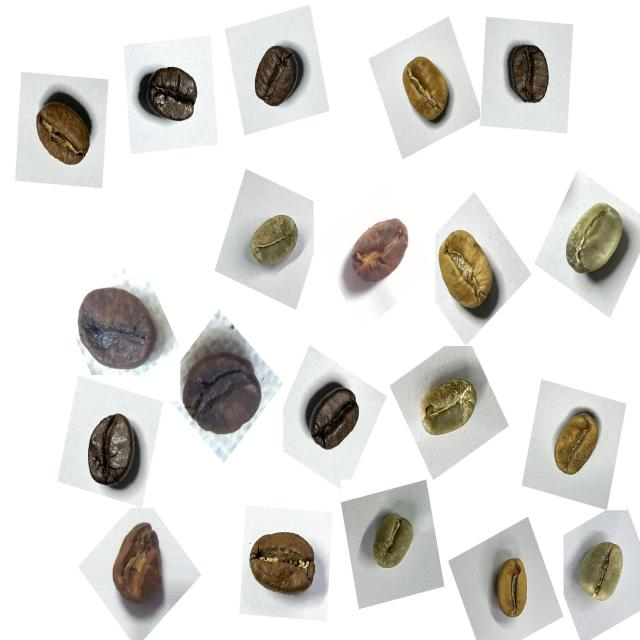bad: (172, 337, 270, 450), (68, 274, 168, 382), (101, 511, 176, 616), (341, 211, 412, 298)
dark: (72, 398, 150, 495), (296, 373, 368, 463), (134, 52, 209, 136), (497, 33, 563, 117)
green: (552, 193, 636, 294), (412, 366, 491, 452), (568, 530, 636, 613), (360, 503, 425, 584), (241, 205, 309, 281)
light: (428, 222, 506, 323), (391, 46, 460, 136), (544, 401, 610, 490), (482, 548, 540, 630)
medium: (239, 517, 326, 610), (24, 88, 102, 184), (244, 36, 311, 122)
